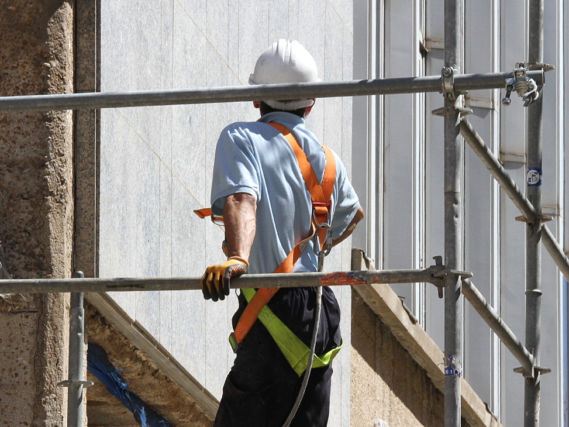person: (207, 40, 339, 309)
